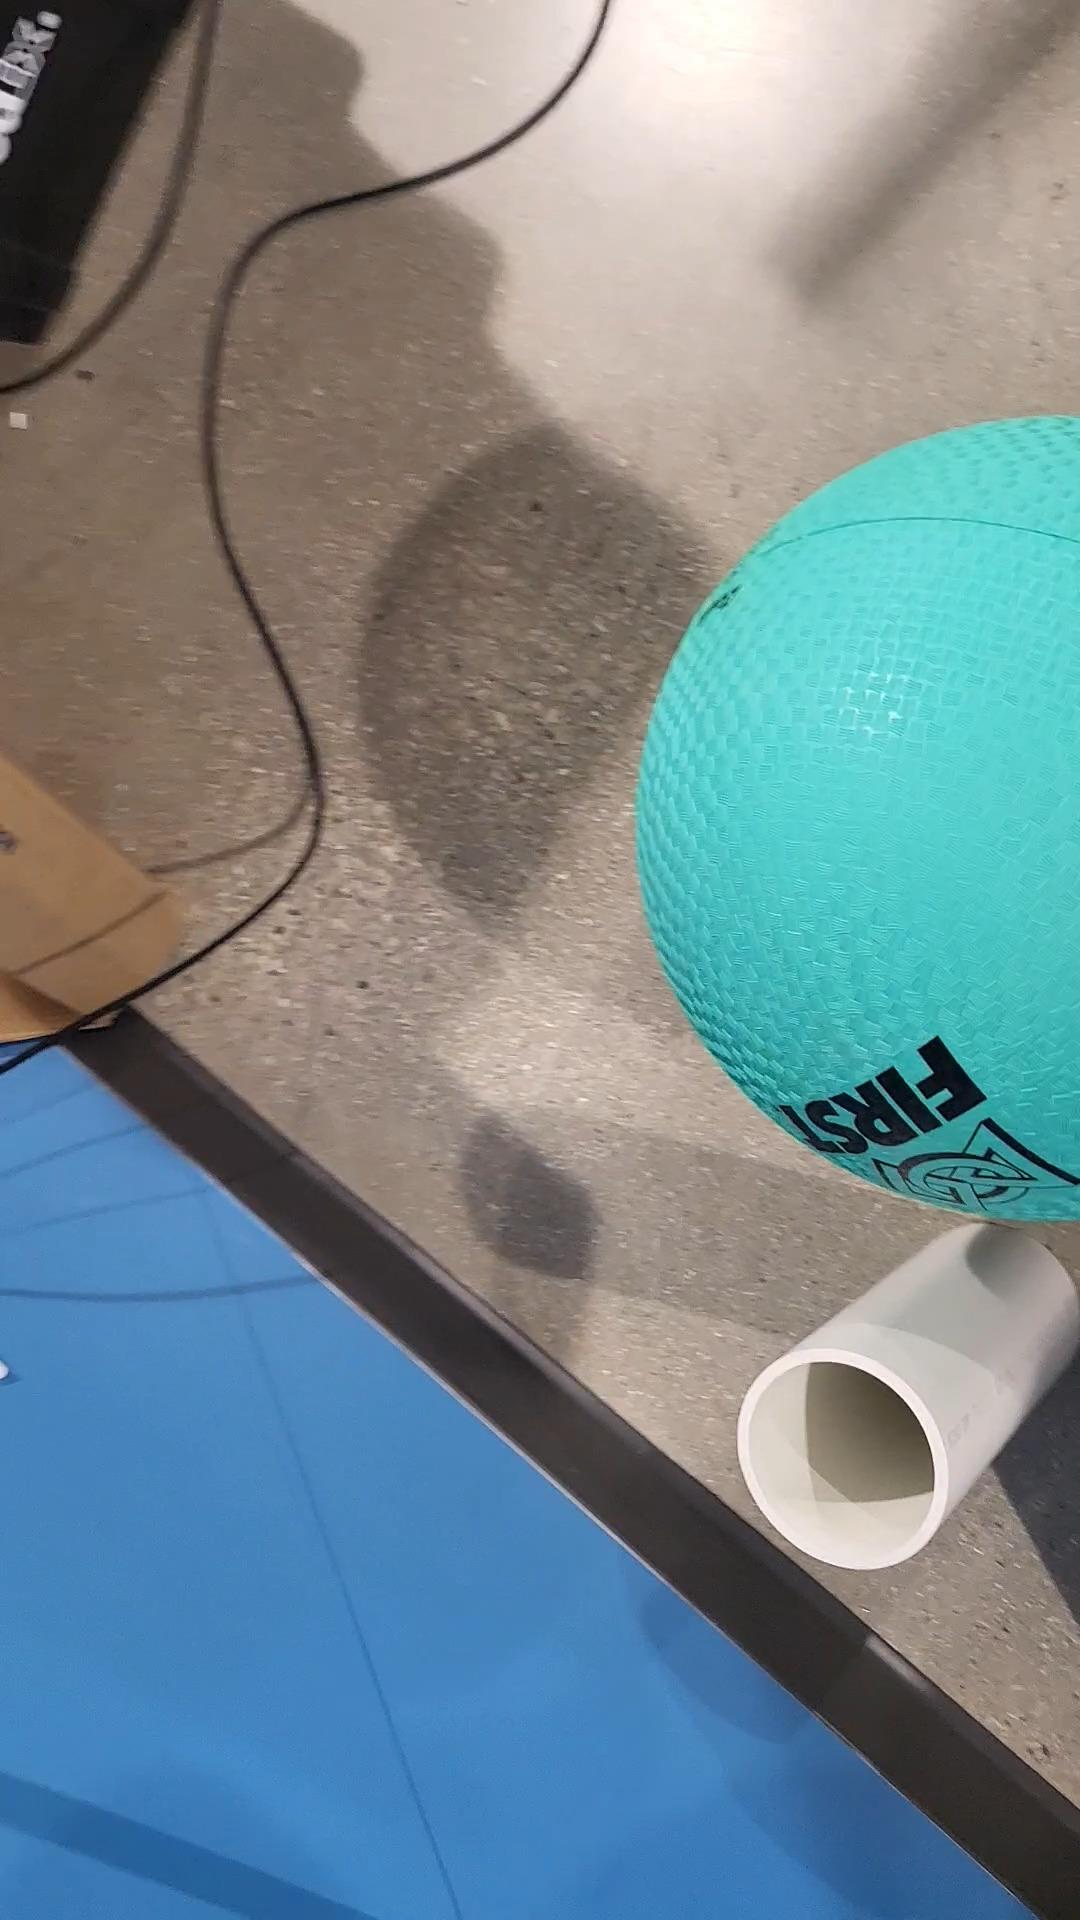algae: (630, 410, 1080, 1233)
coral: (746, 1232, 1080, 1577)
